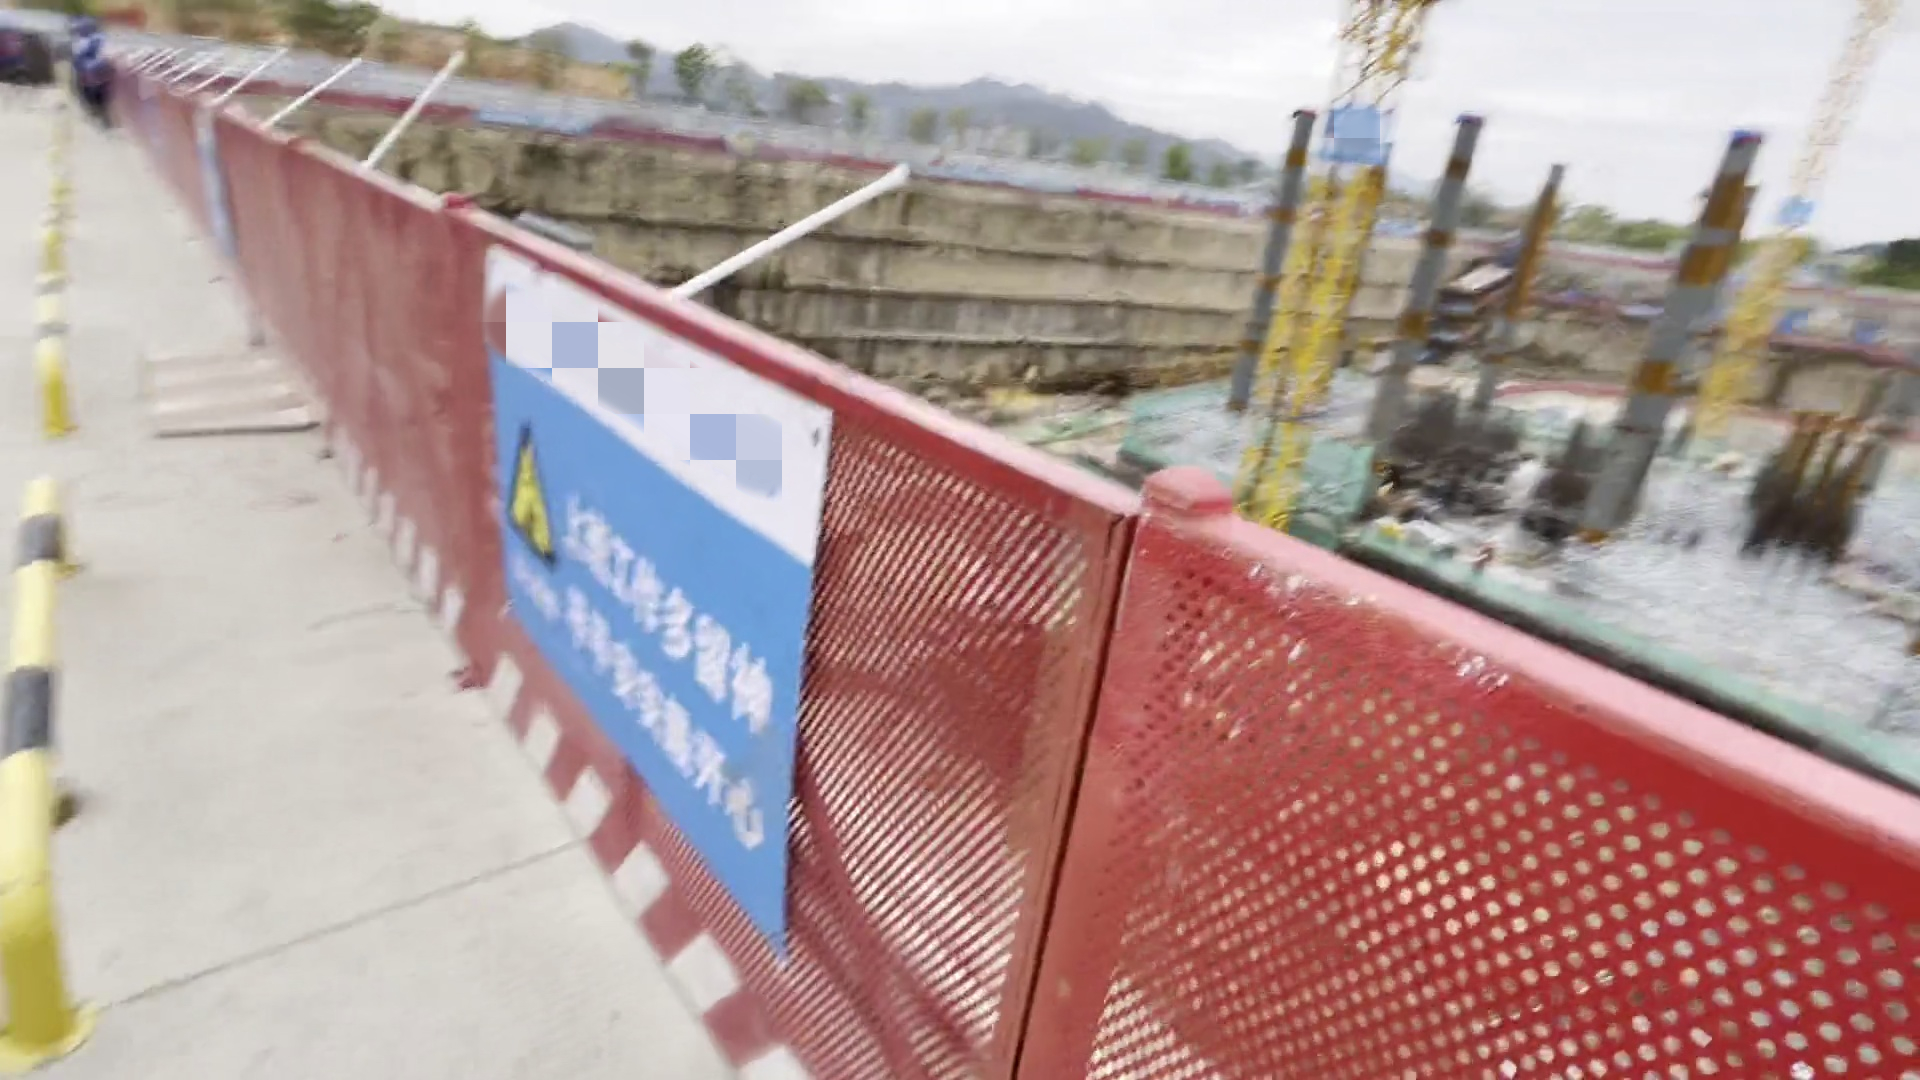fence: (791, 407, 1920, 1079), (133, 45, 493, 637)
slogan: (498, 417, 800, 840)
